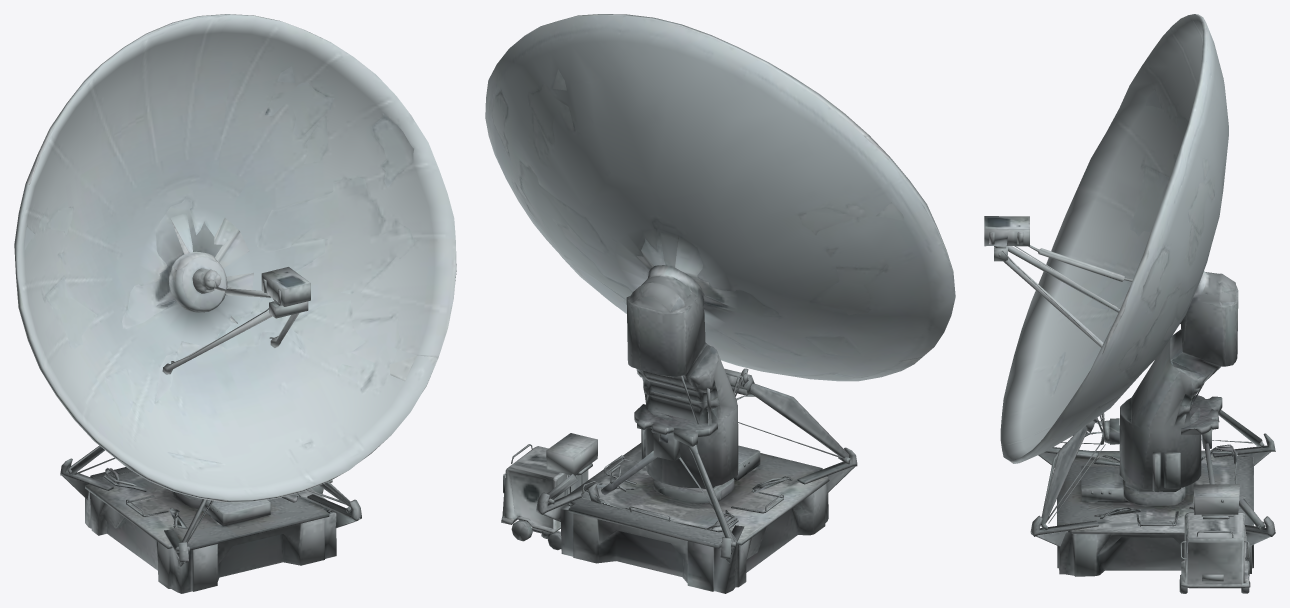
Rendered from l_dish.glb.
The picture shows the model from 3 angles, left to right: view 1: azimuth 30°, elevation 25°; view 2: azimuth 150°, elevation 25°; view 3: azimuth 270°, elevation 25°; orthographic projection. The views are drawn at different scales.
Bounding box in the file's own units: 0.853 × 0.9502 × 0.5024.
Materials: 1 (1 with a texture image).
